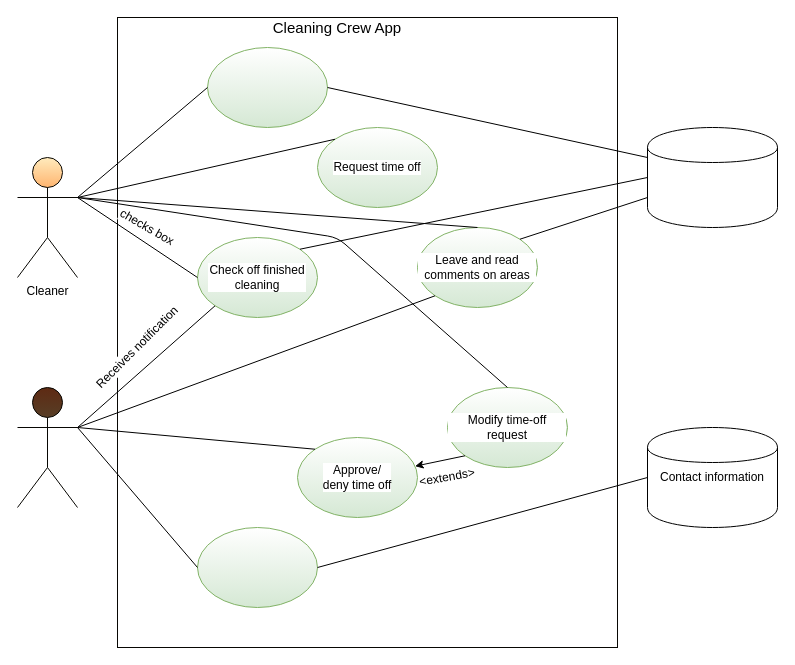
The diagram is 795 pixels wide and 665 high, and some of its shapes have lost their labels. The shapes that lost their labels are listed below. From the top down, each one's centre as x and y in pixels, then its label:
At point (267, 87): "View personal cleaning to be done".
At point (712, 177): "Room Data (Cleaned vs. uncleaned, comments )".
At point (47, 447): "Boss".
At point (257, 567): "View contact info for all employees".
